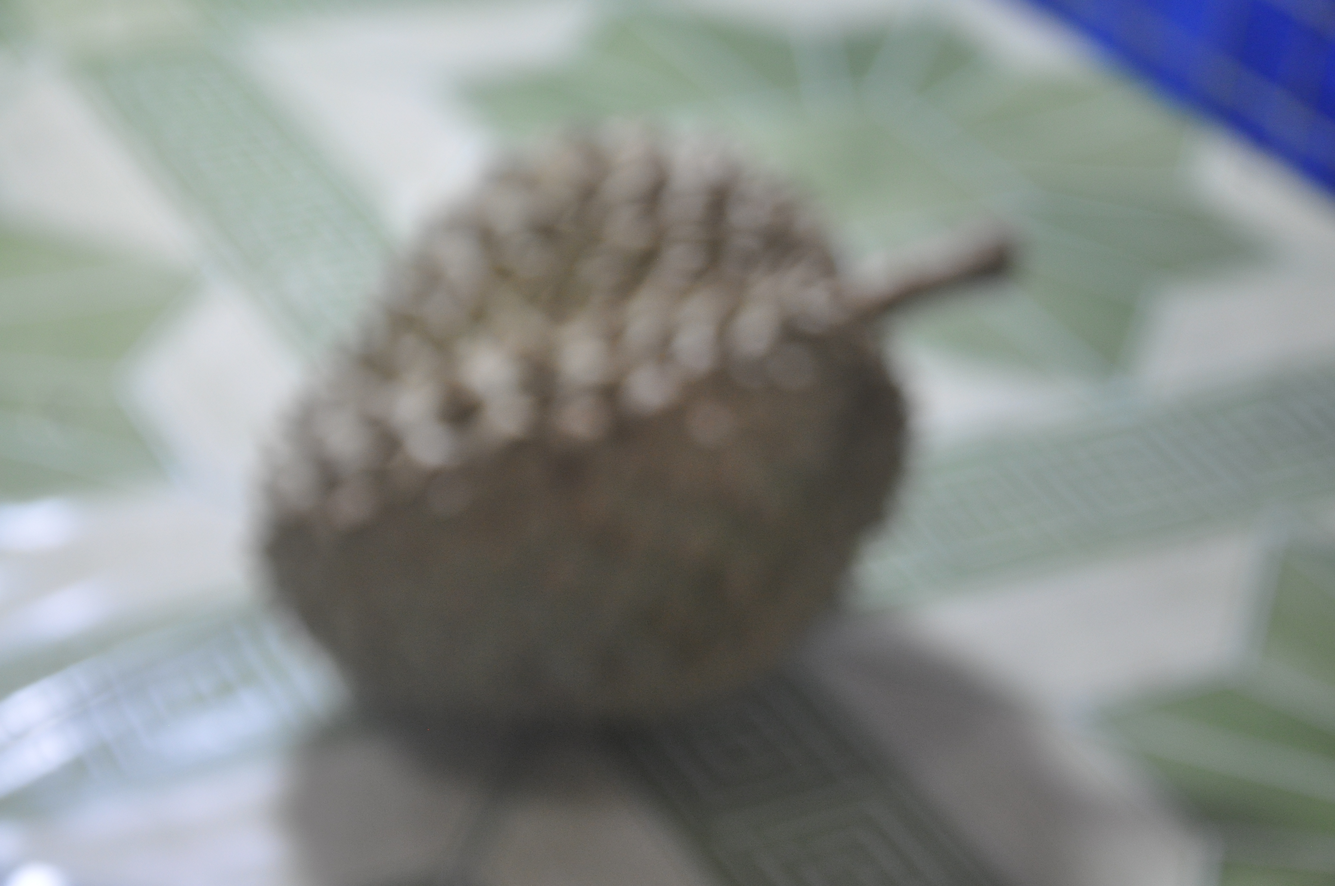mature: (215, 98, 1028, 789)
